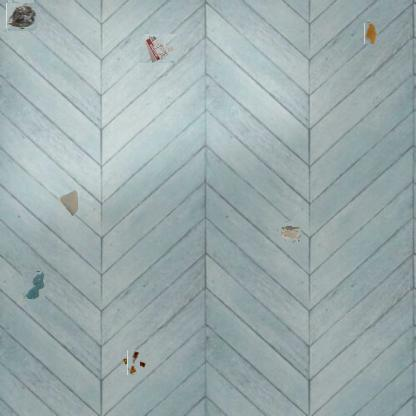dirty: (139, 33, 177, 63), (7, 1, 36, 30), (56, 188, 80, 218), (277, 221, 301, 243), (124, 353, 144, 372)
liquid: (23, 271, 45, 299), (364, 22, 377, 44)
